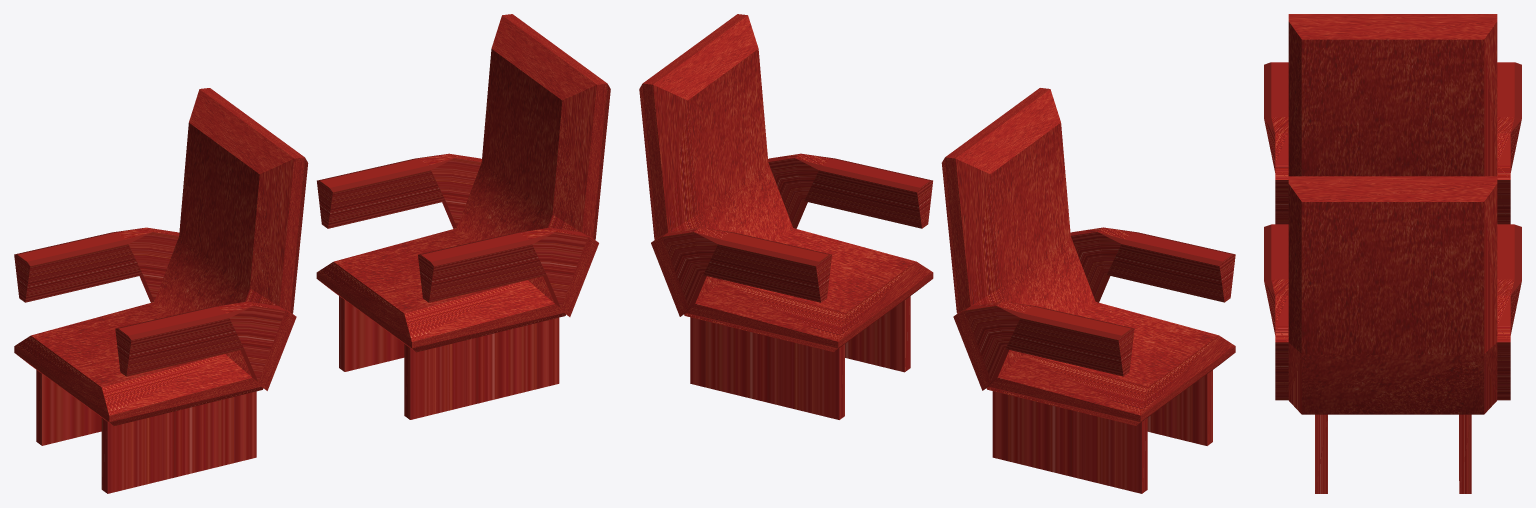
Rendered from space.FBX.
3 views of the same model, side by side, from view 1: azimuth 30°, elevation 25°; view 2: azimuth 150°, elevation 25°; view 3: azimuth 270°, elevation 25° (orthographic). The views are drawn at different scales.
Parts seen in each view (by area): view 1: chair364, chair365; view 2: chair364, chair365; view 3: chair365, chair364.
Part boxes in pixels (x1,y1,x2,y2): chair364: (14, 88, 308, 493); chair365: (316, 14, 610, 419); chair364: (941, 88, 1235, 493); chair365: (639, 14, 933, 419); chair365: (1264, 176, 1521, 493); chair364: (1264, 14, 1521, 224).
Bounding box in the file's own units: 2.76 × 1.57 × 1.11.
Materials: 1 (1 with a texture image).
